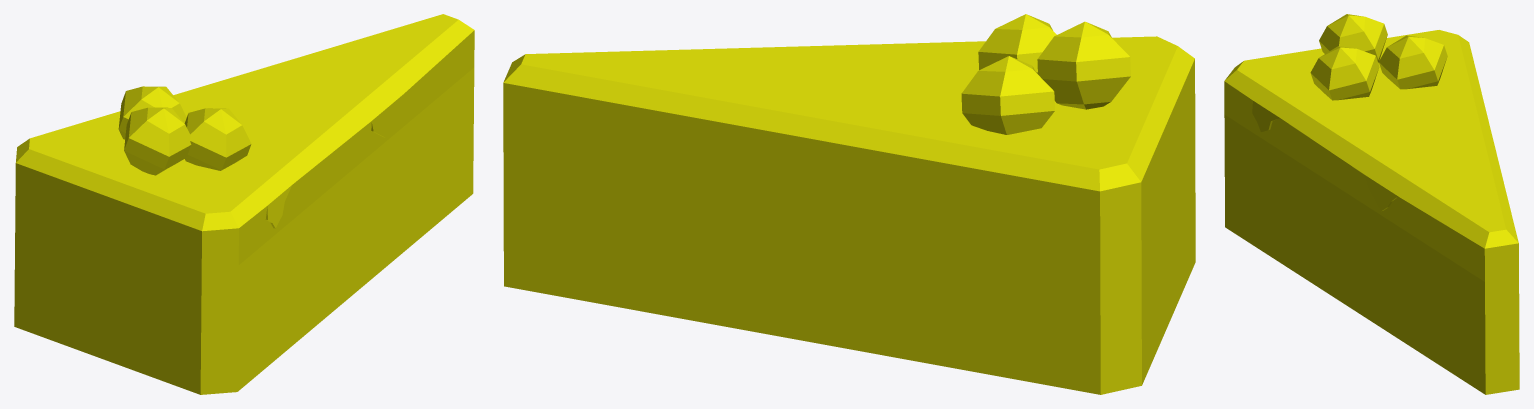
The picture shows the model from 3 angles, left to right: view 1: azimuth 30°, elevation 25°; view 2: azimuth 150°, elevation 25°; view 3: azimuth 270°, elevation 25°; orthographic projection. The views are drawn at different scales.
Parts seen in each view (by area): view 1: Cake; view 2: Cake; view 3: Cake.
Boxes of the visible parts, x1,y1,x2,y2 form: Cake: (14, 14, 474, 394); Cake: (503, 14, 1195, 394); Cake: (1224, 14, 1519, 394).
Bounding box in the file's own units: 0.1154 × 0.0536 × 0.0681.
Materials: 1 (1 with a texture image).
